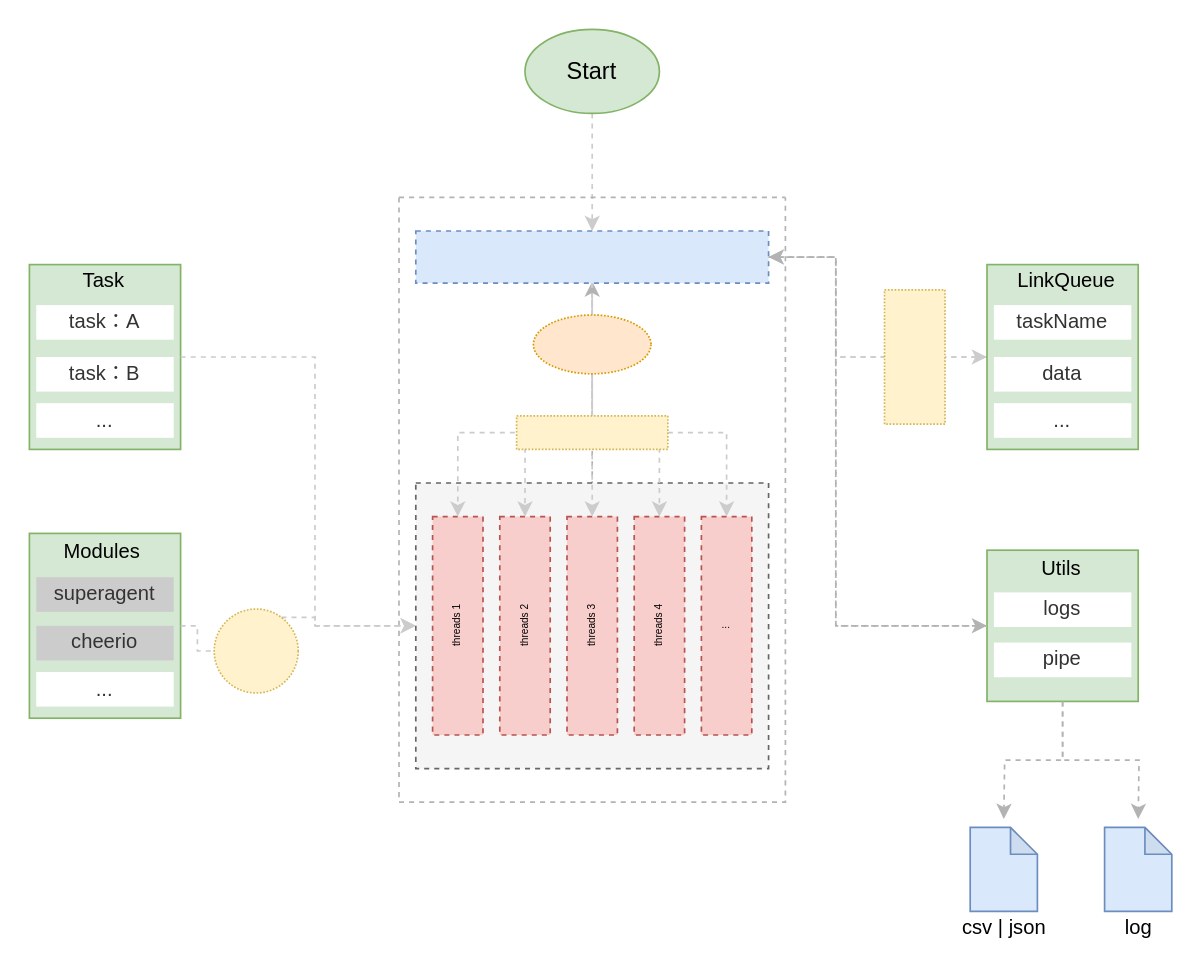
Image size: 1201x974. Some labels were removed from this diagram. The centre of each missing label's shape, as x and y in pixels:
"add pop size" goes at point 914,356.
"Master" goes at point 591,256.
"postMessage" goes at point 591,431.
"require" goes at point 255,650.
"schedule" goes at point 591,343.
